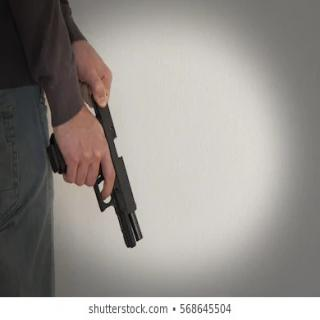gun: (47, 81, 148, 253)
